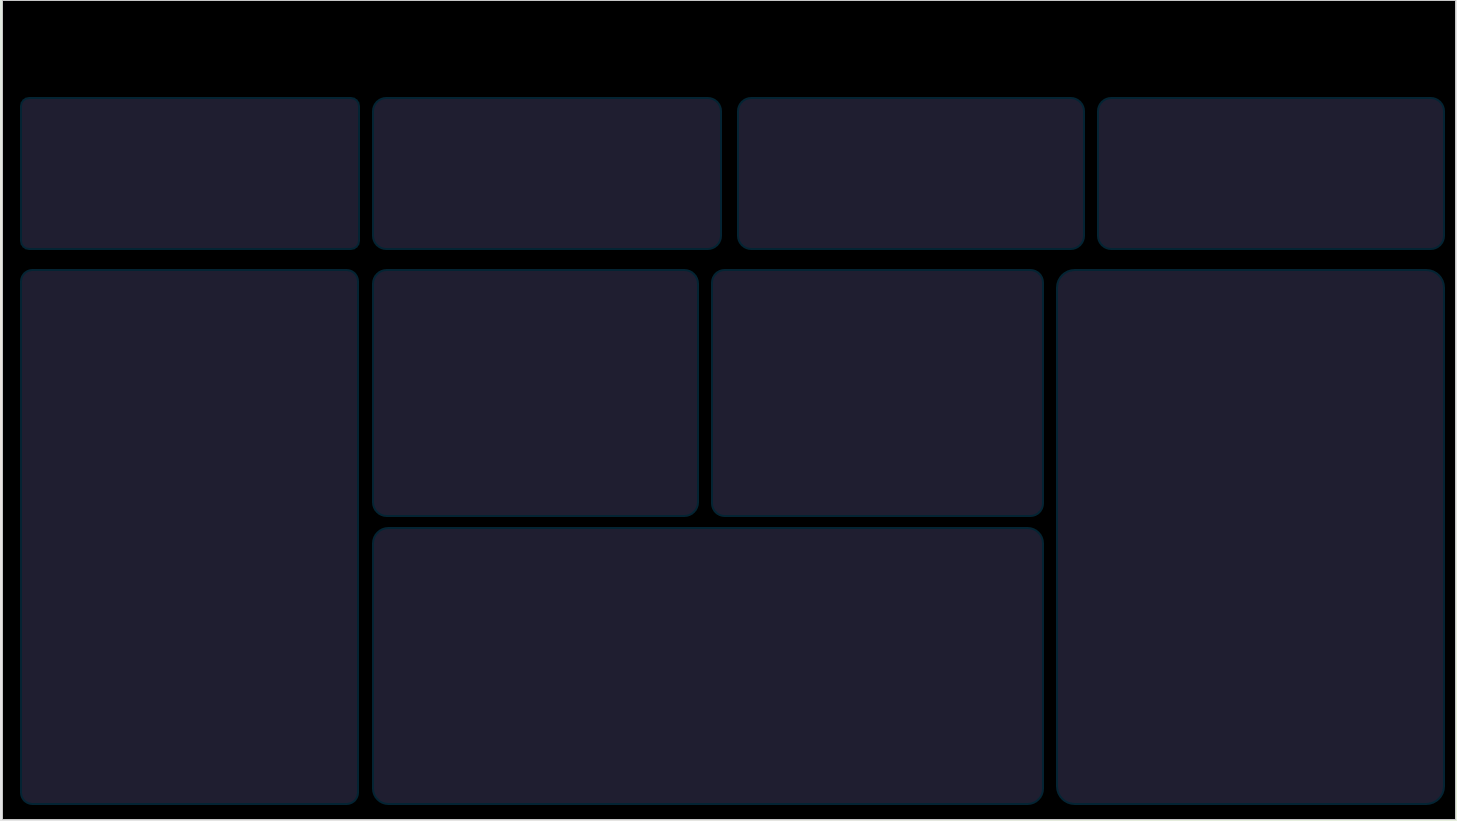

Layout of this report page (visuals, bound fields, positions):
{"tool":"powerbi","page":{"name":"Page 1","canvas":[1280,720],"ordinal":0},"visuals":[{"type":"textbox","box":[19.3,7,448.7,61.5],"z":0},{"type":"cardVisual","fields":{"Data":["1_Measures.Total Quantity"]},"box":[320.5,69.4,181.8,97.5],"z":1000},{"type":"cardVisual","fields":{"Data":["1_Measures.Total Sales"]},"box":[8.8,68.5,181.8,97.5],"z":2000},{"type":"cardVisual","fields":{"Data":["1_Measures.Profit"]},"box":[640,68.7,181.5,98.1],"z":3000},{"type":"cardVisual","fields":{"Data":["1_Measures.Profit Margin"]},"box":[973.5,68.7,181.5,98.1],"z":4000},{"type":"areaChart","fields":{"Y":["1_Measures.Total Sales"],"Category":["Calendar Table.Year"]},"box":[8.8,118.5,311.7,101.9],"z":5000},{"type":"areaChart","fields":{"Category":["Calendar Table.Year"],"Y":["1_Measures.Total Quantity"]},"box":[320.5,115.9,311.7,101.9],"z":6000},{"type":"areaChart","fields":{"Category":["Calendar Table.Year"],"Y":["1_Measures.Profit"]},"box":[640.1,115,311.7,101.9],"z":7000},{"type":"areaChart","fields":{"Category":["Calendar Table.Year"],"Y":["1_Measures.Profit Margin"]},"box":[960.6,115.9,311.7,101.9],"z":8000},{"type":"barChart","title":"Top 10 Product by ProductName","fields":{"Y":["1_Measures.Total Sales"],"Category":["Dim_Product.ProductName"]},"box":[21.4,241.2,288.9,458.1],"z":9000},{"type":"donutChart","title":"Sales % By Store Type","fields":{"Y":["1_Measures.Total Sales"],"Category":["Dim_Store.StoreType"]},"box":[330.7,241.2,275.3,200.4],"z":10000},{"type":"donutChart","title":"Sales % By Region","fields":{"Y":["1_Measures.Total Sales"],"Category":["Dim_Customer.Region"]},"box":[632.2,241.2,275.3,200.4],"z":11000},{"type":"clusteredColumnChart","title":"Sales vs Last Years","fields":{"Y":["1_Measures.Total Sales","1_Measures.Sales LY"],"Category":["Calendar Table.Month Name"]},"box":[330.7,470.8,578.7,236.4],"z":12000},{"type":"map","fields":{"Category":["Dim_Store.State"],"Size":["1_Measures.Total Sales"]},"box":[934.7,220.8,326.8,282.1],"z":13000},{"type":"pivotTable","title":"Top 5 Brands","fields":{"Rows":["Dim_Product.Brand"],"Values":["1_Measures.Total Sales","1_Measures.Total Quantity","1_Measures.Profit"]},"box":[944.8,511.9,327.5,181.8],"z":14000},{"type":"advancedSlicerVisual","fields":{"Values":["Calendar Table.Year"]},"box":[476.8,7,580.4,61.5],"z":15000},{"type":"slicer","title":"Customer Segment","fields":{"Values":["Dim_Customer.Segment"]},"box":[1074.7,7,197.6,61.5],"z":16000}]}

Visuals, with their boxes in screenshot pixels (x1, y1, x2, y2), scaled from the page's 1280x720 canvas onto the 1457x821 screenshot:
textbox: x1=22 y1=8 x2=533 y2=78
cardVisual - 1_Measures.Total Quantity: x1=365 y1=79 x2=572 y2=190
cardVisual - 1_Measures.Total Sales: x1=10 y1=78 x2=217 y2=189
cardVisual - 1_Measures.Profit: x1=728 y1=78 x2=935 y2=190
cardVisual - 1_Measures.Profit Margin: x1=1108 y1=78 x2=1315 y2=190
areaChart - 1_Measures.Total Sales x Calendar Table.Year: x1=10 y1=135 x2=365 y2=251
areaChart - Calendar Table.Year x 1_Measures.Total Quantity: x1=365 y1=132 x2=720 y2=248
areaChart - Calendar Table.Year x 1_Measures.Profit: x1=729 y1=131 x2=1083 y2=247
areaChart - Calendar Table.Year x 1_Measures.Profit Margin: x1=1093 y1=132 x2=1448 y2=248
"Top 10 Product by ProductName" barChart: x1=24 y1=275 x2=353 y2=797
"Sales % By Store Type" donutChart: x1=376 y1=275 x2=690 y2=504
"Sales % By Region" donutChart: x1=720 y1=275 x2=1033 y2=504
"Sales vs Last Years" clusteredColumnChart: x1=376 y1=537 x2=1035 y2=806
map - Dim_Store.State x 1_Measures.Total Sales: x1=1064 y1=252 x2=1436 y2=573
"Top 5 Brands" pivotTable: x1=1075 y1=584 x2=1448 y2=791
advancedSlicerVisual - Calendar Table.Year: x1=543 y1=8 x2=1203 y2=78
"Customer Segment" slicer: x1=1223 y1=8 x2=1448 y2=78
